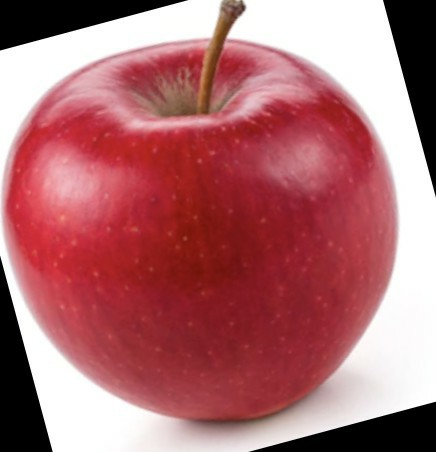fresh_apple: (5, 39, 401, 419)
